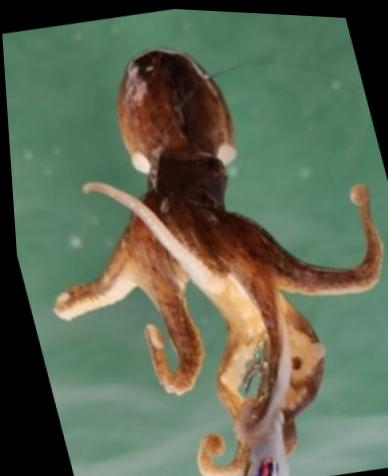Cephalopod: (48, 44, 381, 476)
